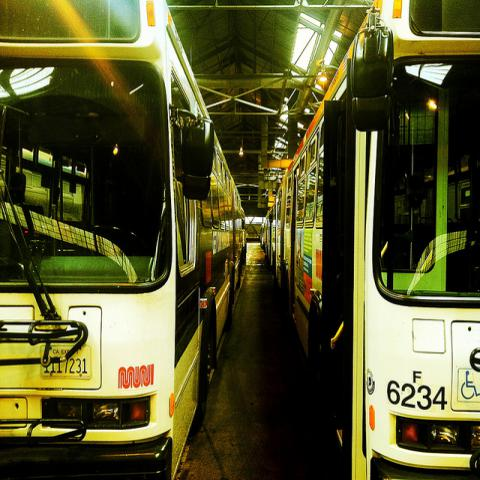bus: (2, 2, 253, 472), (284, 3, 480, 473)
